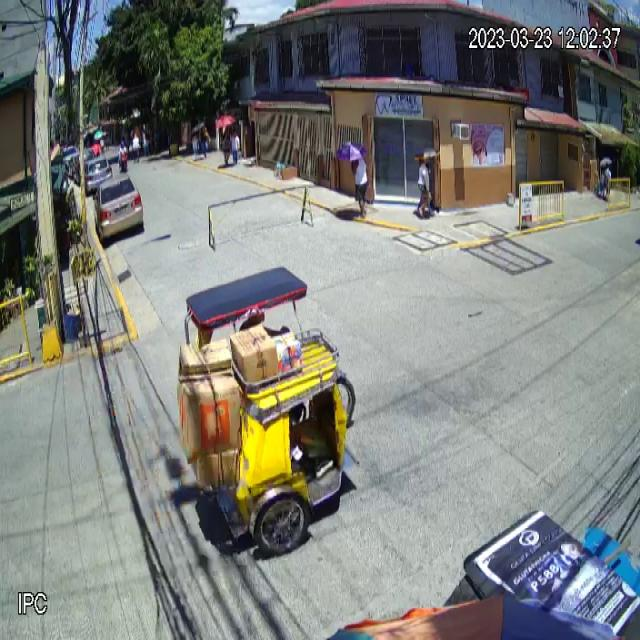Tricycle: (178, 266, 360, 556)
